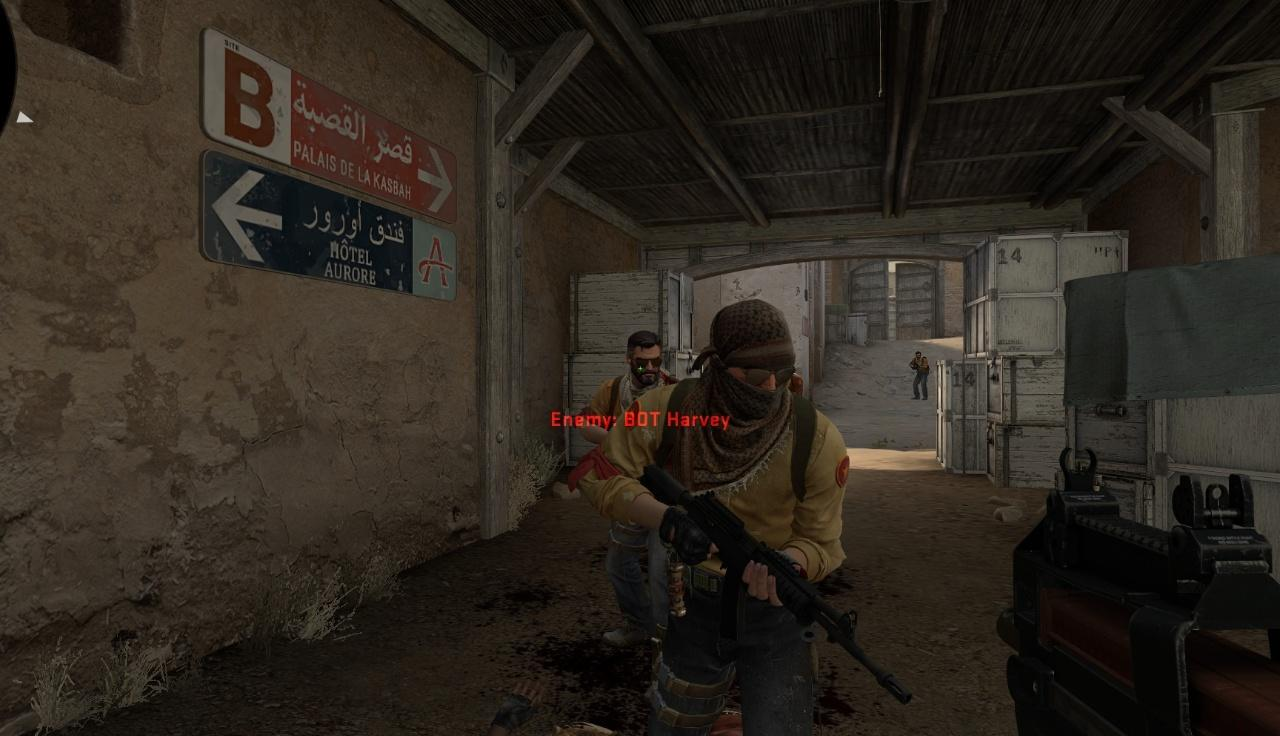rifle: (1000, 449, 1280, 736)
tt: (669, 301, 842, 733), (909, 352, 929, 400)
tthead: (713, 303, 790, 415), (627, 330, 663, 386), (916, 351, 921, 360)
